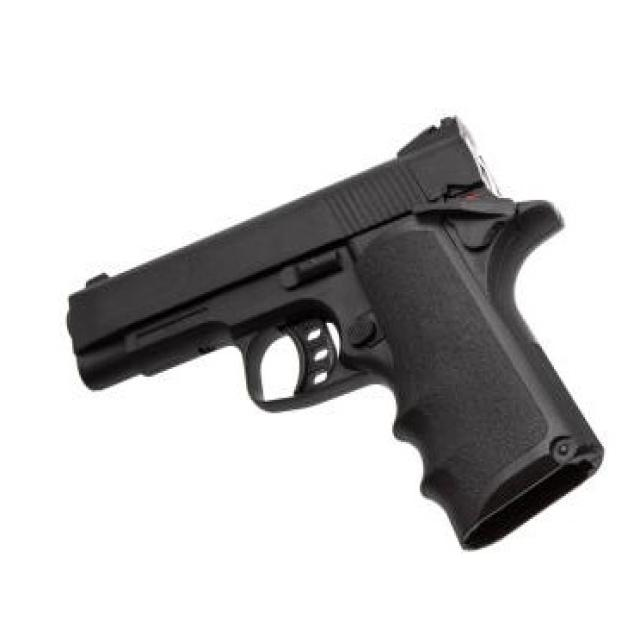pistol: (47, 104, 608, 563)
